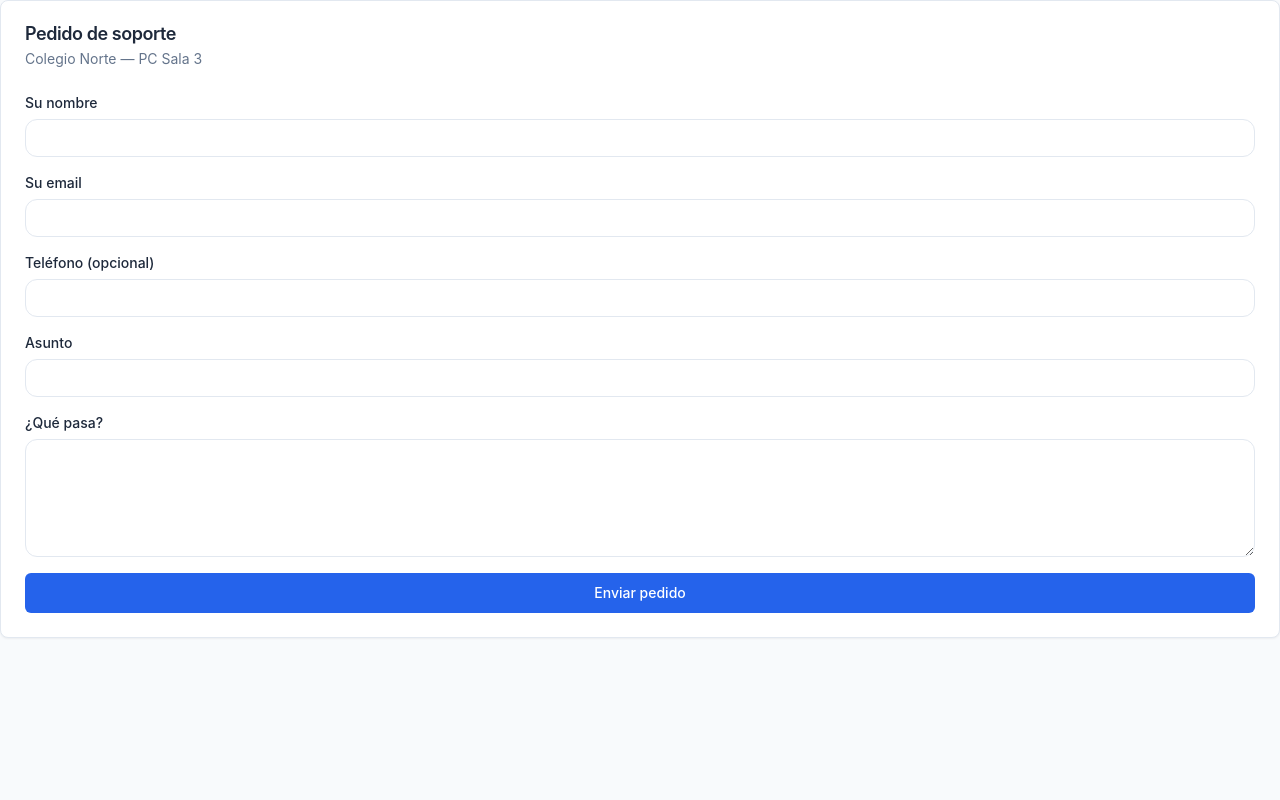
Test case: PedidoPublicoView › EXTERNO: 429 al enviar muestra el aviso y deja el formulario para reintentar
This screenshot has width=1280, height=800.
In the field labelled "Su nombre": coordinates (640, 138) top-left (25, 119), bottom-right (1255, 157), type "Ana Pérez"
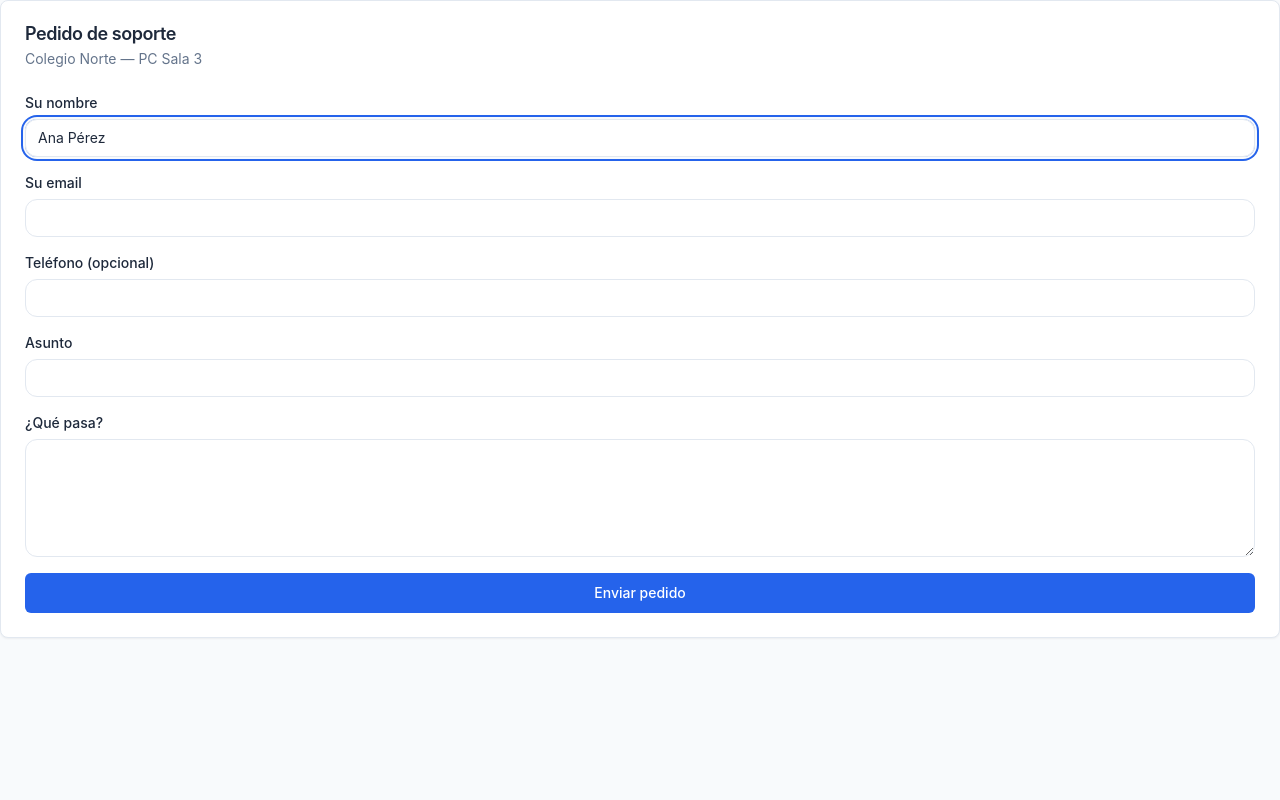
In the field labelled "Su email": coordinates (640, 218) top-left (25, 199), bottom-right (1255, 237), type "ana@example.com"
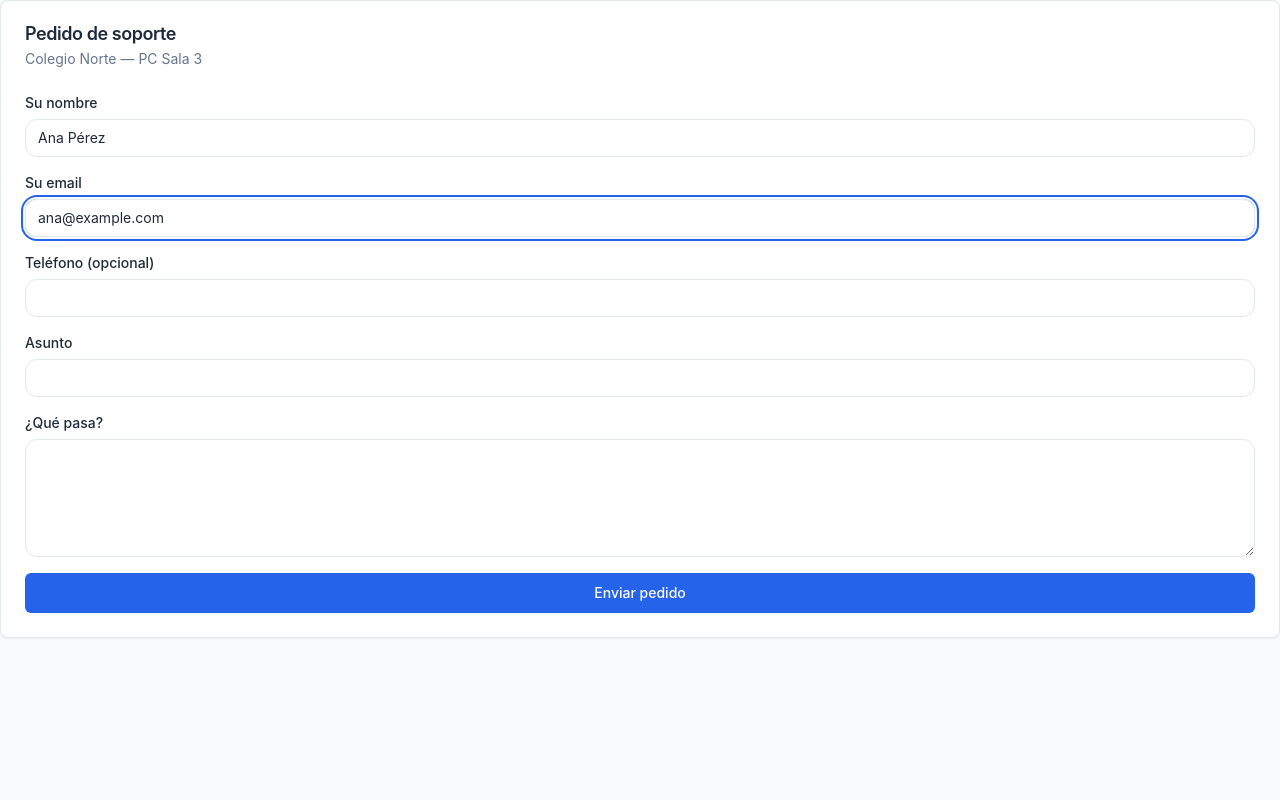
In the field labelled "Asunto": coordinates (640, 378) top-left (25, 359), bottom-right (1255, 397), type "No enciende"
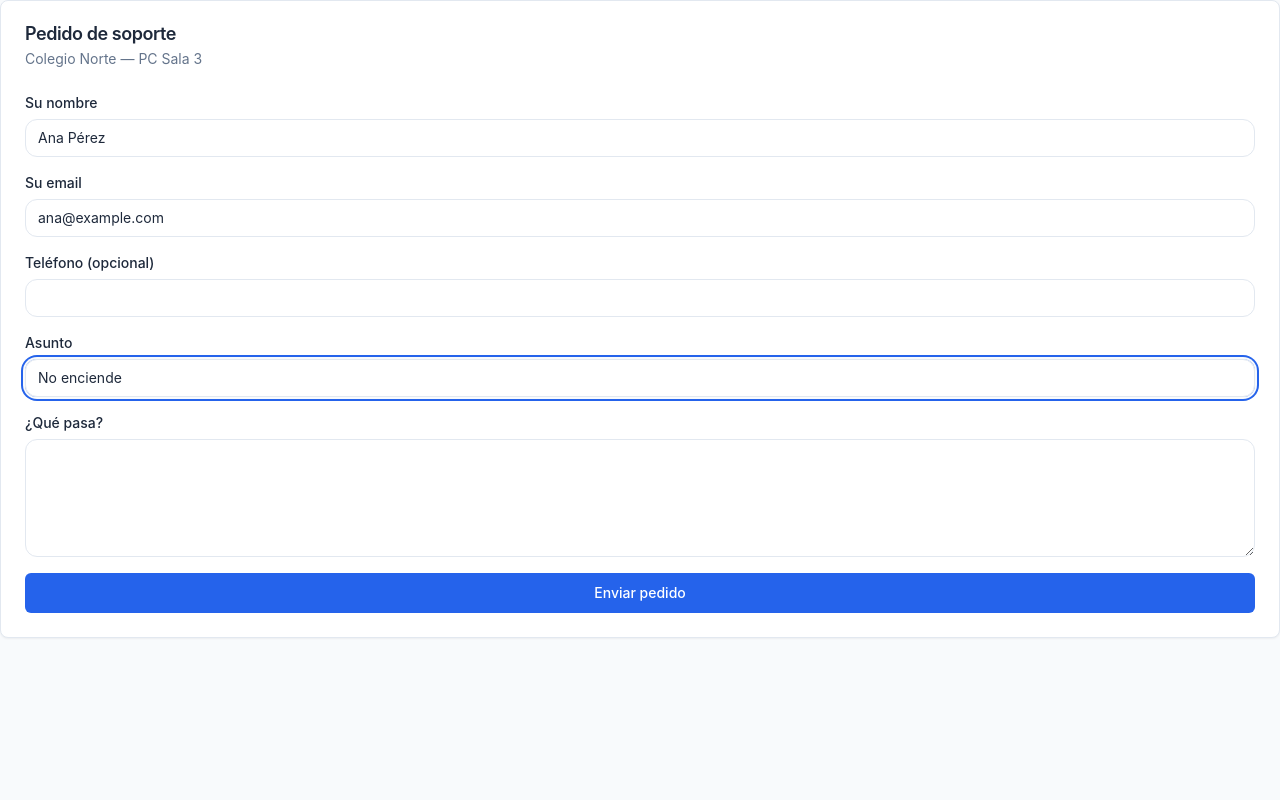
In the text box labelled "¿Qué pasa?": coordinates (640, 498) top-left (25, 439), bottom-right (1255, 557), type "Desde ayer no prende."
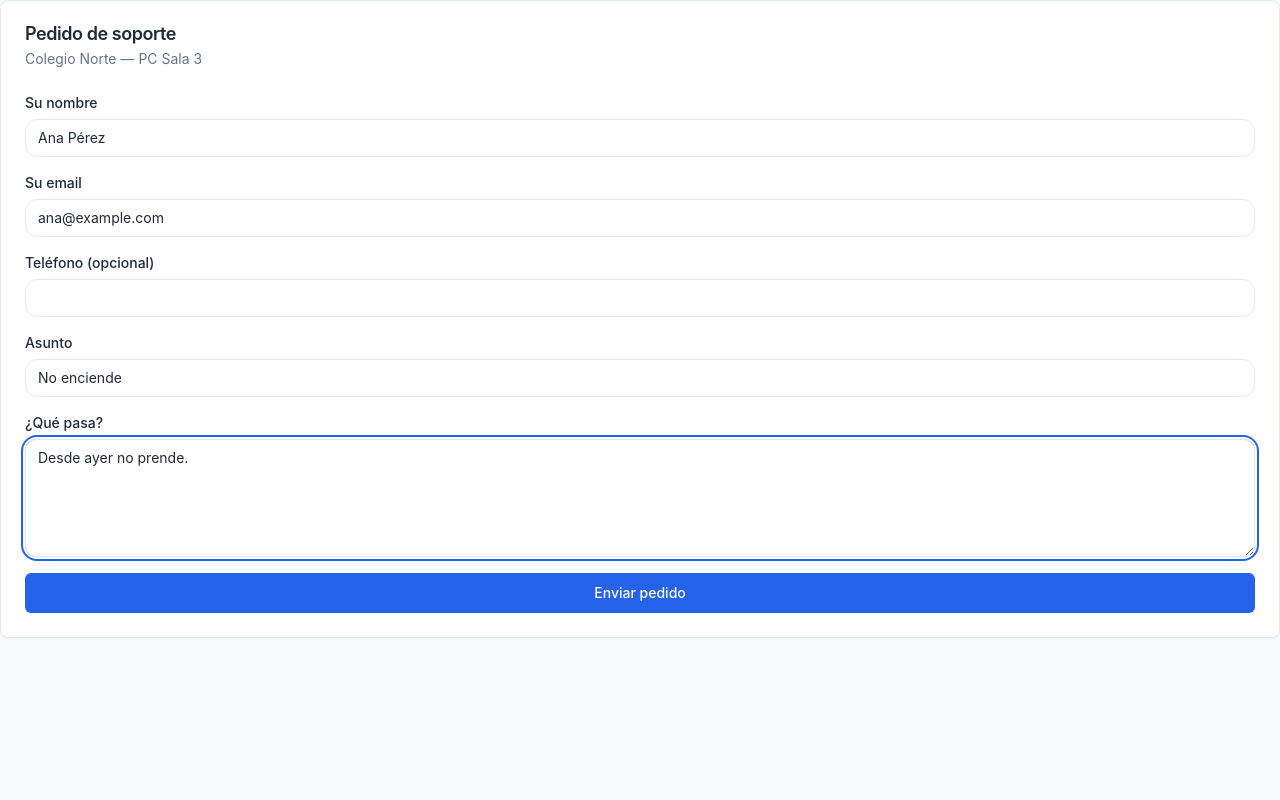
Click the button "Enviar pedido": coordinates (640, 593) top-left (25, 573), bottom-right (1255, 613)
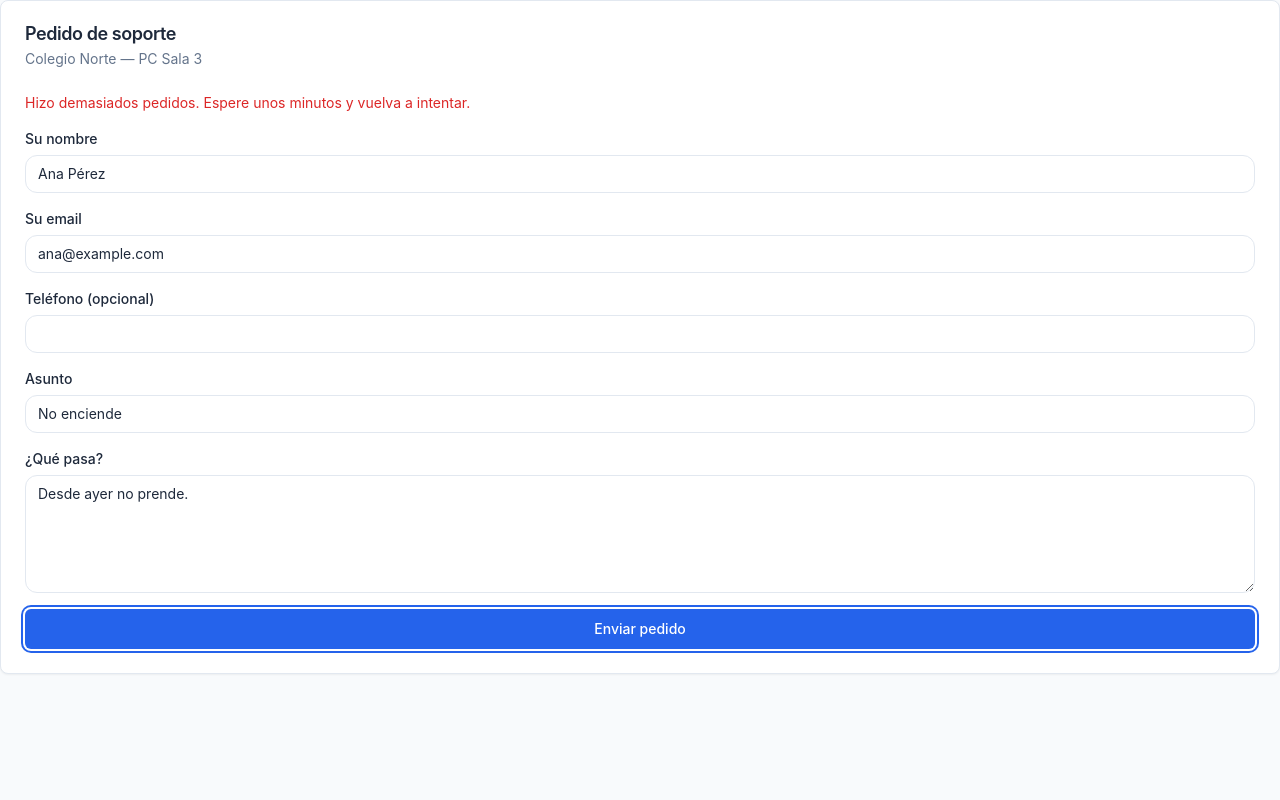
expect the button "Enviar pedido" is shown: met, box top-left (25, 609), bottom-right (1255, 649)
expect the text "Hizo demasiados pedidos. Espere unos minutos y vuelva a intentar." is shown: met, box top-left (25, 94), bottom-right (470, 111)
